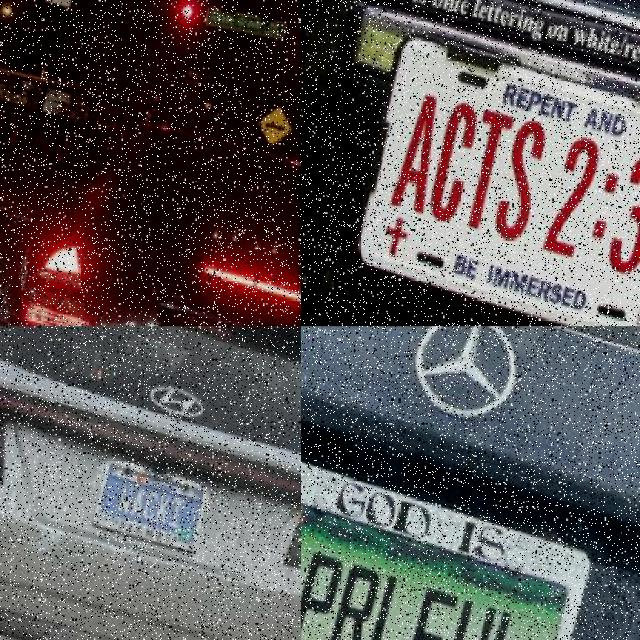licenseplate: (344, 26, 640, 326), (300, 462, 594, 640), (92, 455, 209, 553)
